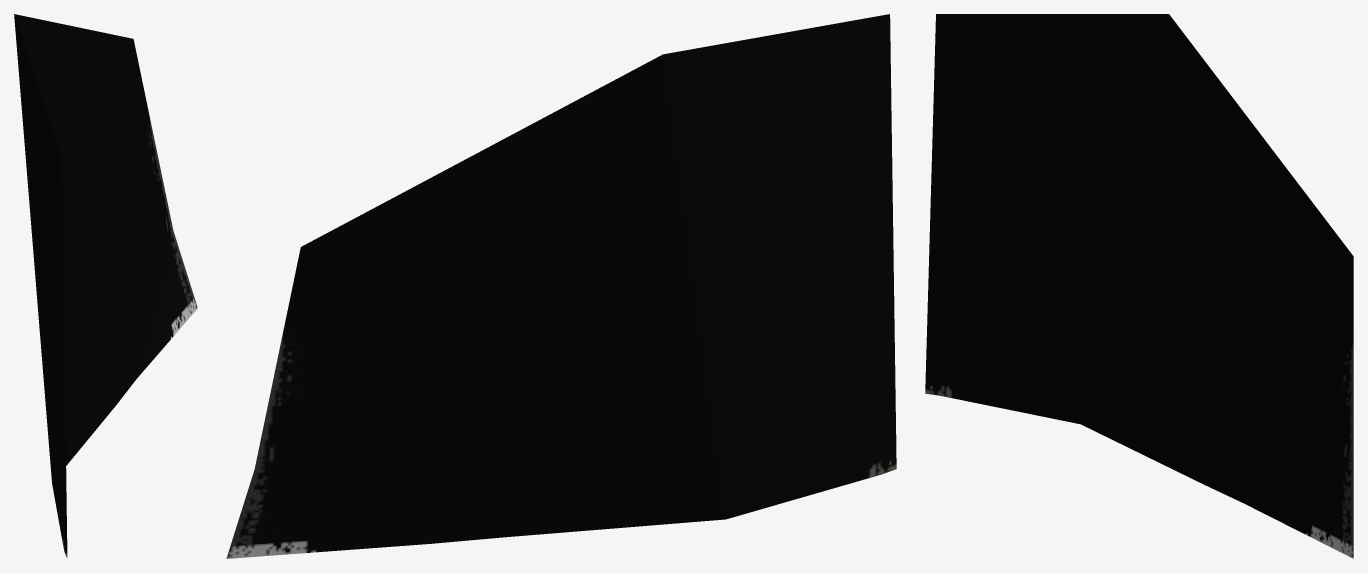
3 renders of one model, left to right at view 1: azimuth 30°, elevation 25°; view 2: azimuth 150°, elevation 25°; view 3: azimuth 270°, elevation 25°, orthographic. The views are drawn at different scales.
Size of the model in its own units: 3.44 by 4.02 by 3.77.
1 material, 1 textured.
